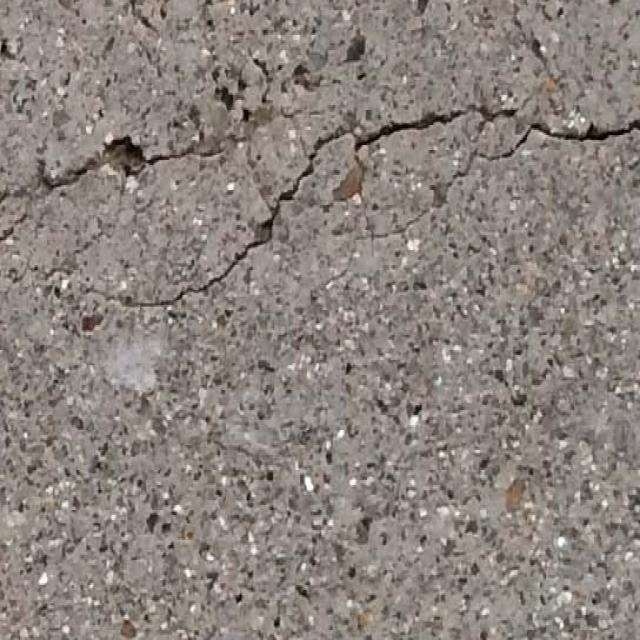Annular: (25, 102, 397, 333)
Network: (411, 101, 640, 230)
